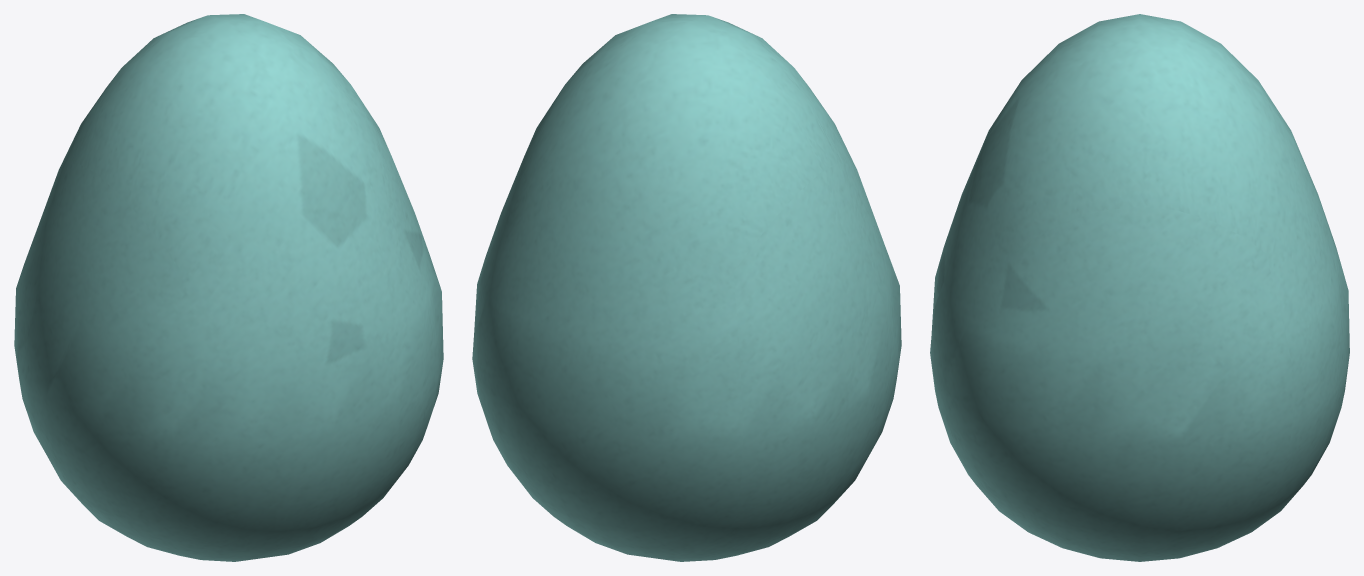
Rendered from EggClosed.fbx.
The picture shows the model from 3 angles, left to right: view 1: azimuth 30°, elevation 25°; view 2: azimuth 150°, elevation 25°; view 3: azimuth 270°, elevation 25°; orthographic projection.
Visible parts, largest first — view 1: Egg; view 2: Egg; view 3: Egg.
Boxes of the visible parts, x1=… form: Egg: x1=14, y1=14, x2=443, y2=561; Egg: x1=472, y1=14, x2=901, y2=561; Egg: x1=930, y1=14, x2=1349, y2=561.
Size of the model in its own units: 1.73 by 2.34 by 1.73.
1 material, 1 textured.
